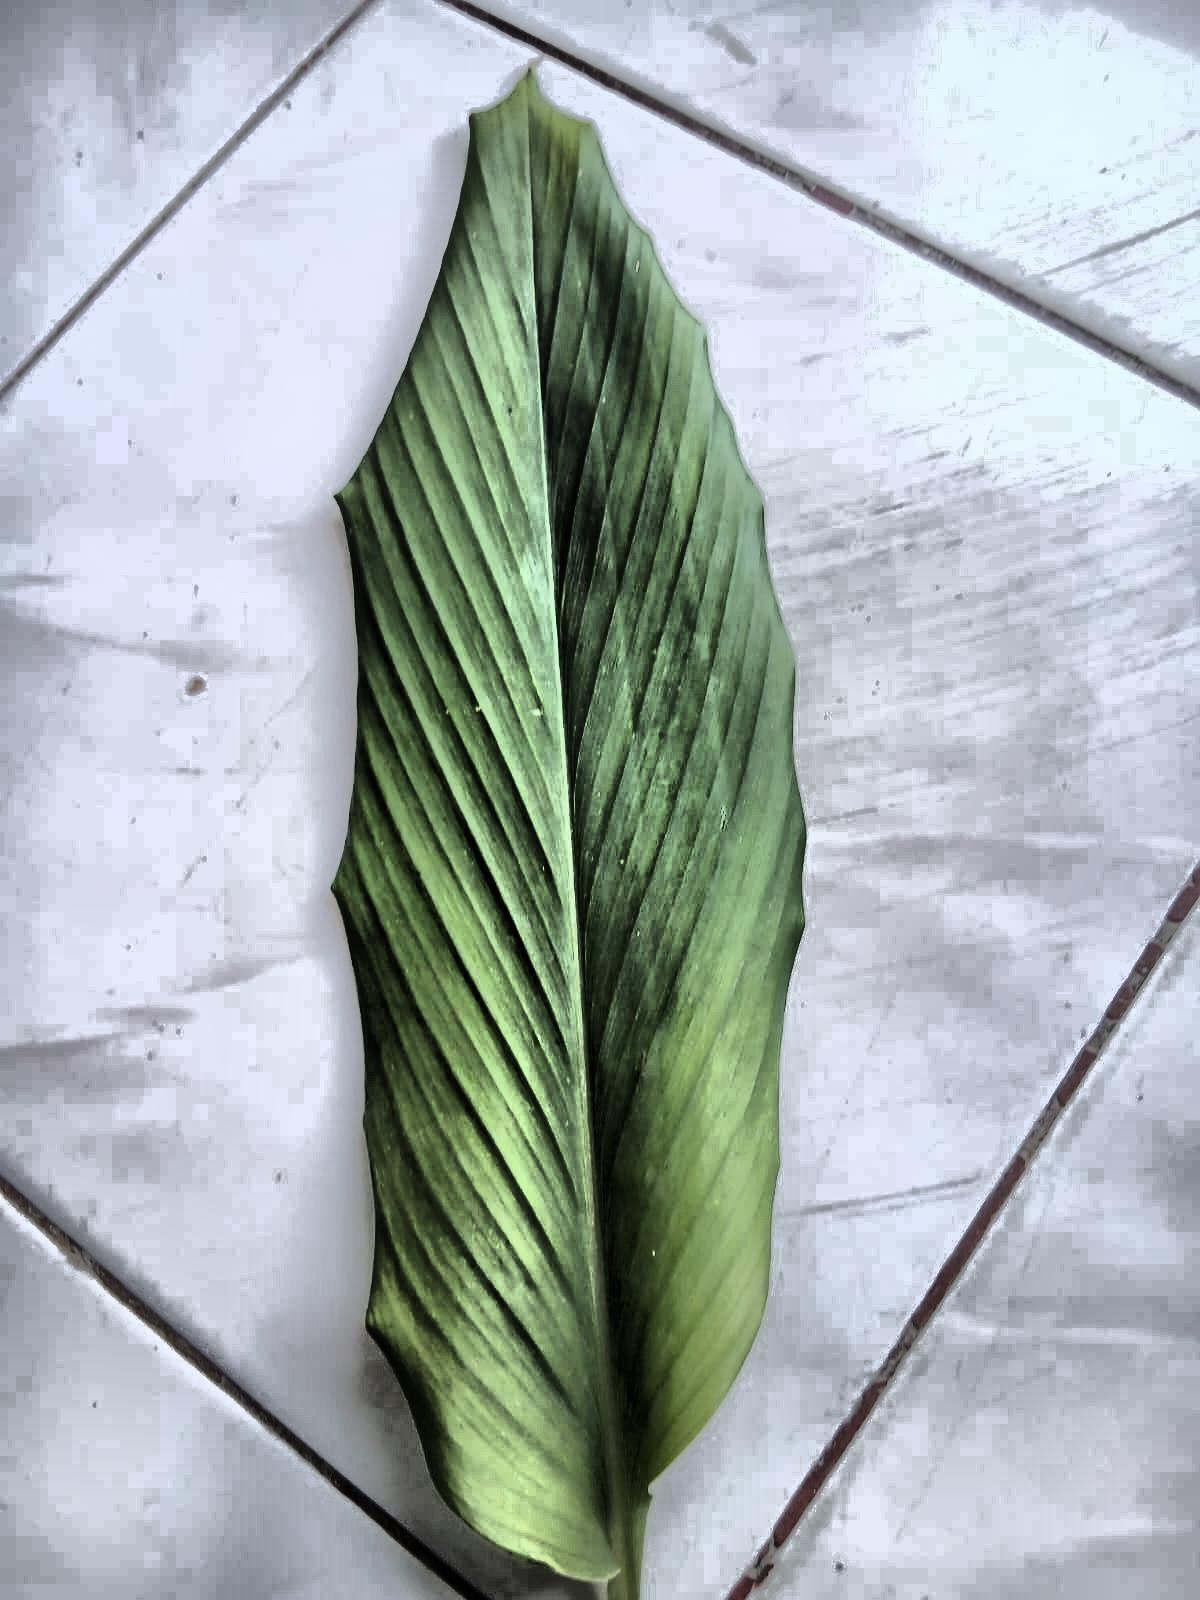daun kunyit: (333, 74, 805, 1599)
